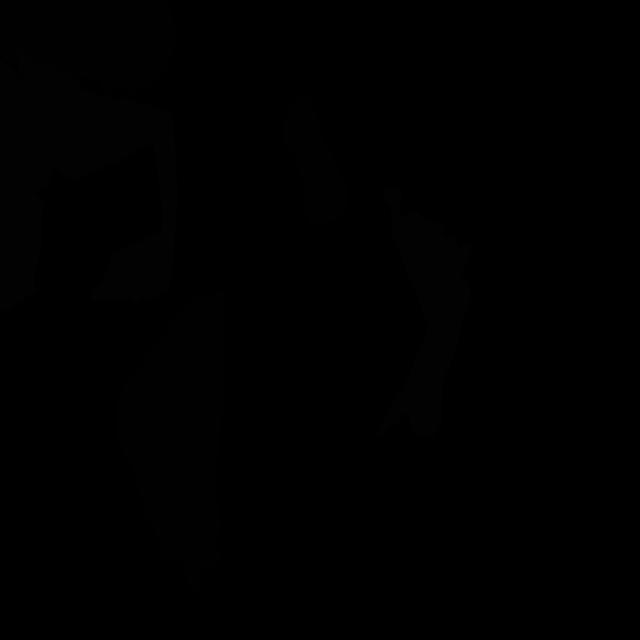cardboard: (18, 45, 178, 305), (376, 186, 474, 438), (0, 58, 68, 249), (0, 227, 37, 311), (30, 217, 42, 266)
rigid_plastic: (115, 291, 225, 596), (0, 0, 175, 95), (281, 89, 348, 224)
